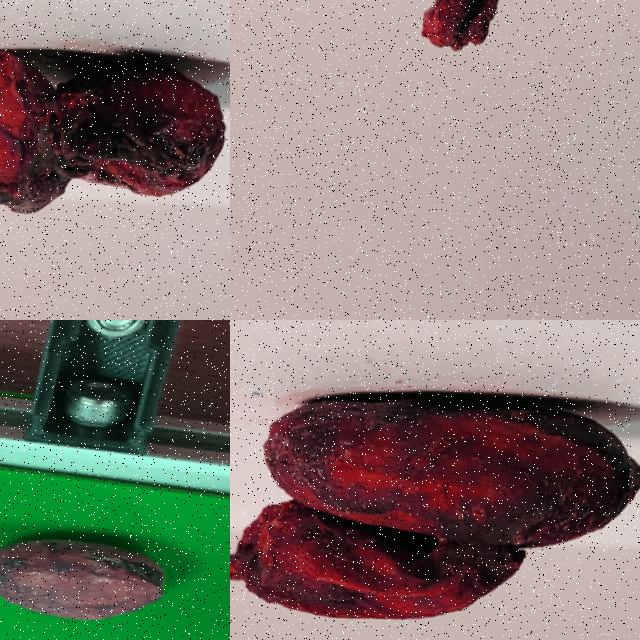Agglomerated_cocoabeans: (230, 320, 639, 639), (0, 12, 229, 257), (380, 0, 639, 88)
Fine_cocoabeans: (0, 470, 229, 639)
